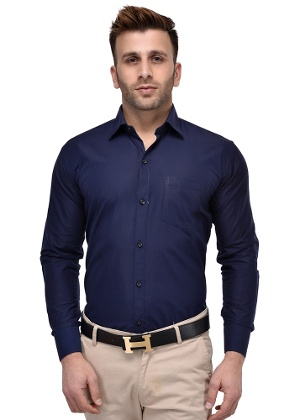Shirt: (36, 117, 268, 334)
